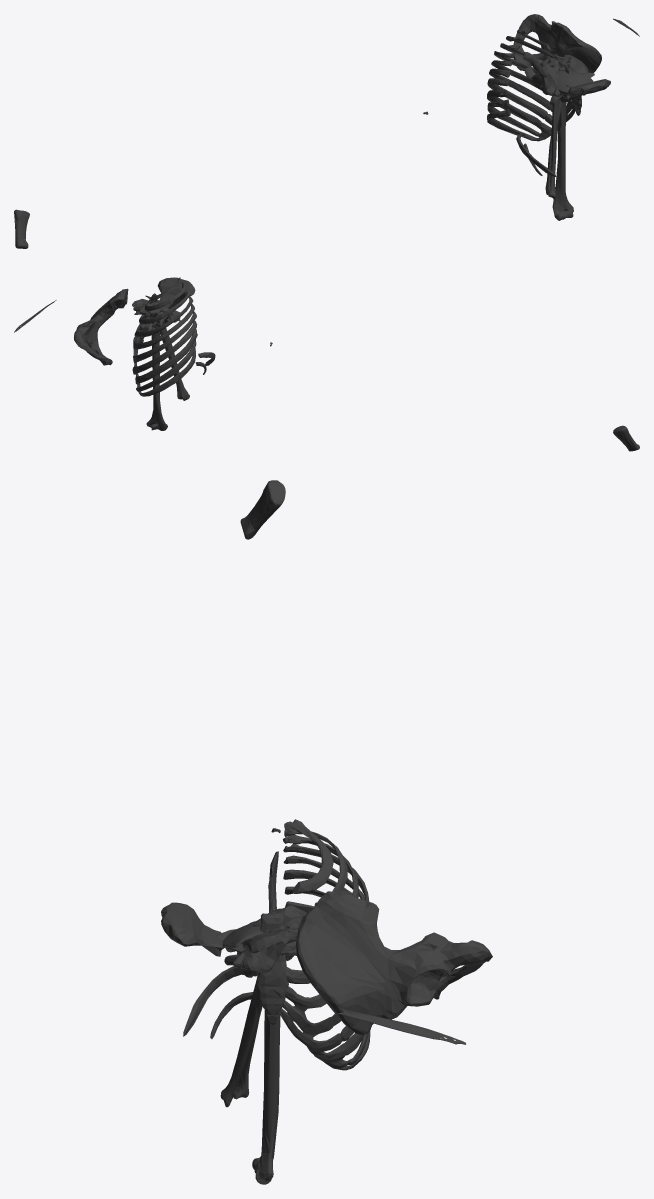
File: sharedassets46.glb
3 renders of one model, top to bottom at view 1: azimuth 30°, elevation 25°; view 2: azimuth 150°, elevation 25°; view 3: azimuth 270°, elevation 25°, orthographic. The views are drawn at different scales.
Parts seen in each view (by area): view 1: 0090_Ilium, R__001012, 0005_Humerus _arm, brachium_, R__000807, 0087_S01-05 Sacrum__001242, 0002_Deltoid, posterior head, R__100087, 0072_Seventh rib _07_, R__002279, 0071_Sixth rib _06_, R__002278, 0063_Eighth rib _08_, R__002280, 0088_Ischium, R__001010, 0033_Ulna _forearm, antebrachium_, R__000808, 0009_2nd Middle phalanx _hand_, R__000815, 0064_Ninth rib _09_, R__002281, 0065_Tenth rib _10_, R__002282 (+1 smaller); view 2: 0090_Ilium, R__001012, 0005_Humerus _arm, brachium_, R__000807, 0063_Eighth rib _08_, R__002280, 0072_Seventh rib _07_, R__002279, 0059_Manubrium__001162, 0071_Sixth rib _06_, R__002278, 0088_Ischium, R__001010, 0064_Ninth rib _09_, R__002281, 0070_Fifth rib _05_, R__002277, 0065_Tenth rib _10_, R__002282, 0087_S01-05 Sacrum__001242, 0069_Fourth rib _04_, R__002276 (+3 smaller); view 3: 0090_Ilium, R__001012, 0005_Humerus _arm, brachium_, R__000807, 0088_Ischium, R__001010, 0059_Manubrium__001162, 0087_S01-05 Sacrum__001242, 0060_Body of sternum__001163, 0089_Pubis, R__001011, 0009_2nd Middle phalanx _hand_, R__000815, 0033_Ulna _forearm, antebrachium_, R__000808, 0071_Sixth rib _06_, R__002278, 0066_First rib _01_, R__002273, 0072_Seventh rib _07_, R__002279 (+1 smaller).
Part boxes in pixels (left/top/right/bottom): 0090_Ilium, R__001012: left=547, top=21, right=601, bottom=72; 0005_Humerus _arm, brachium_, R__000807: left=552, top=102, right=573, bottom=220; 0087_S01-05 Sacrum__001242: left=540, top=54, right=593, bottom=102; 0002_Deltoid, posterior head, R__100087: left=528, top=71, right=594, bottom=95; 0072_Seventh rib _07_, R__002279: left=487, top=78, right=575, bottom=128; 0071_Sixth rib _06_, R__002278: left=489, top=68, right=573, bottom=115; 0063_Eighth rib _08_, R__002280: left=487, top=89, right=557, bottom=136; 0088_Ischium, R__001010: left=513, top=14, right=552, bottom=44; 0033_Ulna _forearm, antebrachium_, R__000808: left=548, top=67, right=564, bottom=199; 0009_2nd Middle phalanx _hand_, R__000815: left=14, top=209, right=29, bottom=248; 0064_Ninth rib _09_, R__002281: left=487, top=99, right=548, bottom=139; 0065_Tenth rib _10_, R__002282: left=487, top=109, right=544, bottom=141; 0090_Ilium, R__001012: left=86, top=288, right=128, bottom=342; 0005_Humerus _arm, brachium_, R__000807: left=146, top=333, right=167, bottom=430; 0063_Eighth rib _08_, R__002280: left=135, top=329, right=197, bottom=384; 0072_Seventh rib _07_, R__002279: left=132, top=320, right=197, bottom=374; 0059_Manubrium__001162: left=157, top=277, right=195, bottom=304; 0071_Sixth rib _06_, R__002278: left=133, top=311, right=196, bottom=363; 0088_Ischium, R__001010: left=74, top=320, right=98, bottom=357; 0064_Ninth rib _09_, R__002281: left=136, top=340, right=196, bottom=391; 0070_Fifth rib _05_, R__002277: left=133, top=304, right=194, bottom=349; 0065_Tenth rib _10_, R__002282: left=138, top=348, right=195, bottom=396; 0087_S01-05 Sacrum__001242: left=133, top=300, right=180, bottom=323; 0069_Fourth rib _04_, R__002276: left=134, top=296, right=193, bottom=337; 0090_Ilium, R__001012: left=296, top=890, right=418, bottom=1034; 0005_Humerus _arm, brachium_, R__000807: left=252, top=1009, right=280, bottom=1184; 0088_Ischium, R__001010: left=409, top=932, right=492, bottom=977; 0059_Manubrium__001162: left=161, top=902, right=222, bottom=956; 0087_S01-05 Sacrum__001242: left=224, top=905, right=306, bottom=977; 0060_Body of sternum__001163: left=256, top=913, right=288, bottom=1015; 0089_Pubis, R__001011: left=407, top=966, right=474, bottom=1006; 0009_2nd Middle phalanx _hand_, R__000815: left=240, top=480, right=285, bottom=539; 0033_Ulna _forearm, antebrachium_, R__000808: left=220, top=973, right=262, bottom=1107; 0071_Sixth rib _06_, R__002278: left=282, top=869, right=352, bottom=1036; 0066_First rib _01_, R__002273: left=284, top=819, right=333, bottom=893; 0072_Seventh rib _07_, R__002279: left=279, top=886, right=353, bottom=1054.
Bounding box in the file's own units: 0.7785 × 0.2153 × 0.1959.
1 material, 1 textured.
